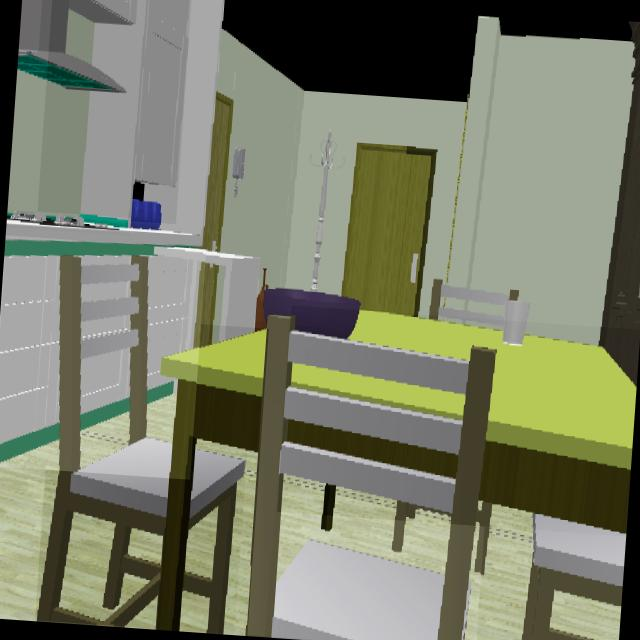cabinet: (0, 240, 206, 461), (69, 0, 190, 223)
chair: (245, 315, 496, 640), (36, 256, 172, 626), (183, 450, 246, 633)
stove: (6, 209, 130, 229)
table: (287, 311, 636, 535), (155, 328, 267, 631)
